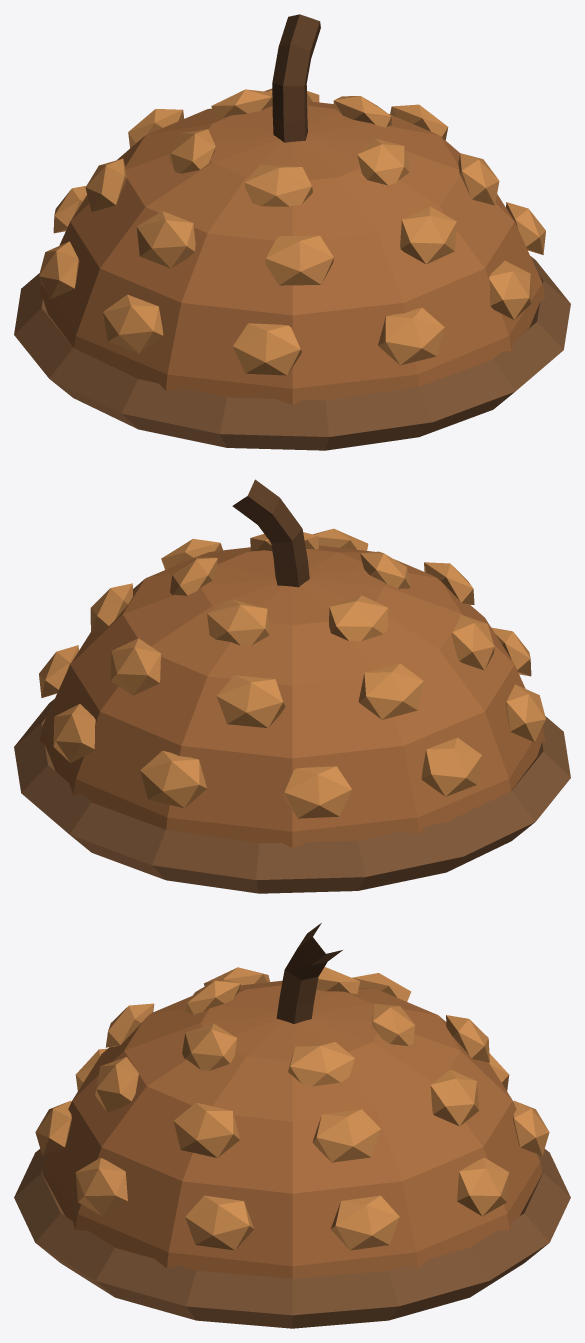
Rendered from acorn-cap.glb.
The picture shows the model from 3 angles, top to bottom: view 1: azimuth 30°, elevation 25°; view 2: azimuth 150°, elevation 25°; view 3: azimuth 270°, elevation 25°; orthographic projection.
Parts seen in each view (by area): view 1: acorn-cap; view 2: acorn-cap; view 3: acorn-cap.
Part boxes in pixels (x1,y1,x2,y2): acorn-cap: (14, 14, 570, 450); acorn-cap: (14, 479, 570, 893); acorn-cap: (14, 923, 570, 1328).
Bounding box in the file's own units: 0.182 × 0.1122 × 0.182.
